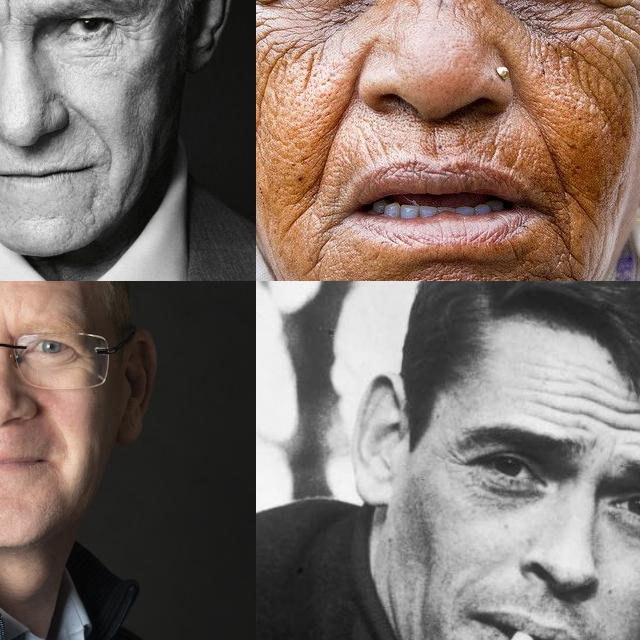bunny_line: (430, 0, 482, 16)
crows_feet: (587, 0, 640, 30), (112, 12, 146, 48), (442, 442, 468, 471), (256, 0, 291, 18), (74, 344, 96, 368)
forehead: (536, 394, 580, 430), (586, 392, 620, 428), (577, 366, 609, 396), (624, 397, 640, 430), (631, 434, 640, 466)
frown_line: (0, 0, 18, 22), (1, 314, 15, 341)
gummy_smile: (312, 49, 363, 180), (524, 102, 568, 194), (70, 94, 106, 146)
masseter: (570, 53, 640, 109), (256, 27, 283, 108)
sad_smile: (546, 211, 578, 273), (304, 213, 331, 281)
smoker_lines: (424, 126, 444, 162)
